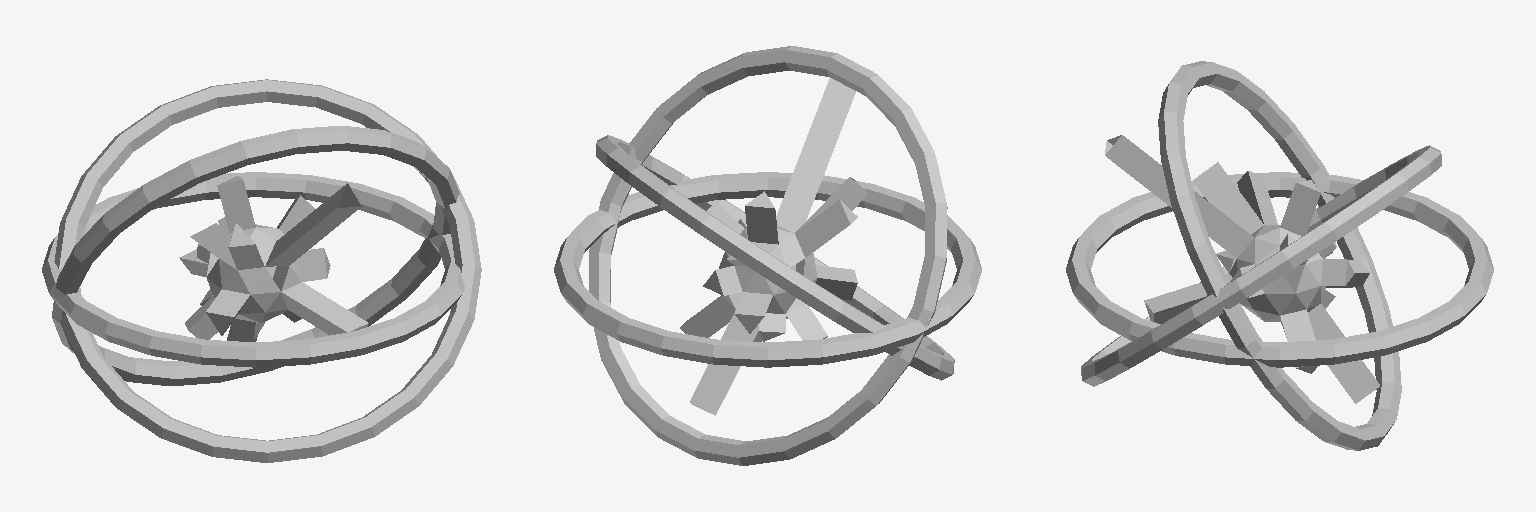
Rendered from demon.obj.
The picture shows the model from 3 angles: view 1: azimuth 30°, elevation 25°; view 2: azimuth 150°, elevation 25°; view 3: azimuth 270°, elevation 25°; orthographic projection.
Parts seen in each view (by area): view 1: Torus.002, Torus.003, Torus.001, Icosphere; view 2: Torus.003, Icosphere, Torus.001, Torus.002; view 3: Torus.003, Icosphere, Torus.001, Torus.002.
Part boxes in pixels (x1,y1,x2,y2): Torus.002: (54,79,481,462); Torus.003: (52,126,459,385); Torus.001: (42,172,464,367); Icosphere: (179,176,368,341); Torus.003: (589,46,947,465); Icosphere: (680,78,867,415); Torus.001: (554,172,981,367); Torus.002: (596,135,954,380); Torus.003: (1158,61,1401,450); Icosphere: (1105,135,1379,403); Torus.001: (1066,172,1493,367); Torus.002: (1081,145,1441,386).
Size of the model in its own units: 8.46 by 7.22 by 8.46.